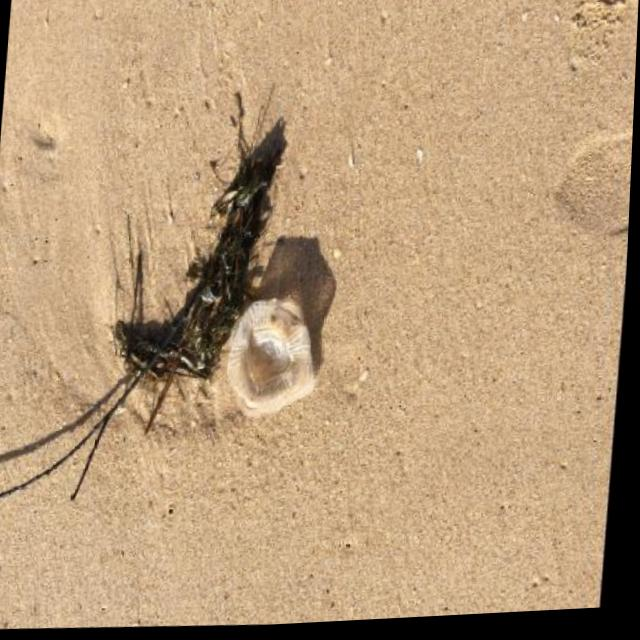plastic: (224, 294, 324, 419)
